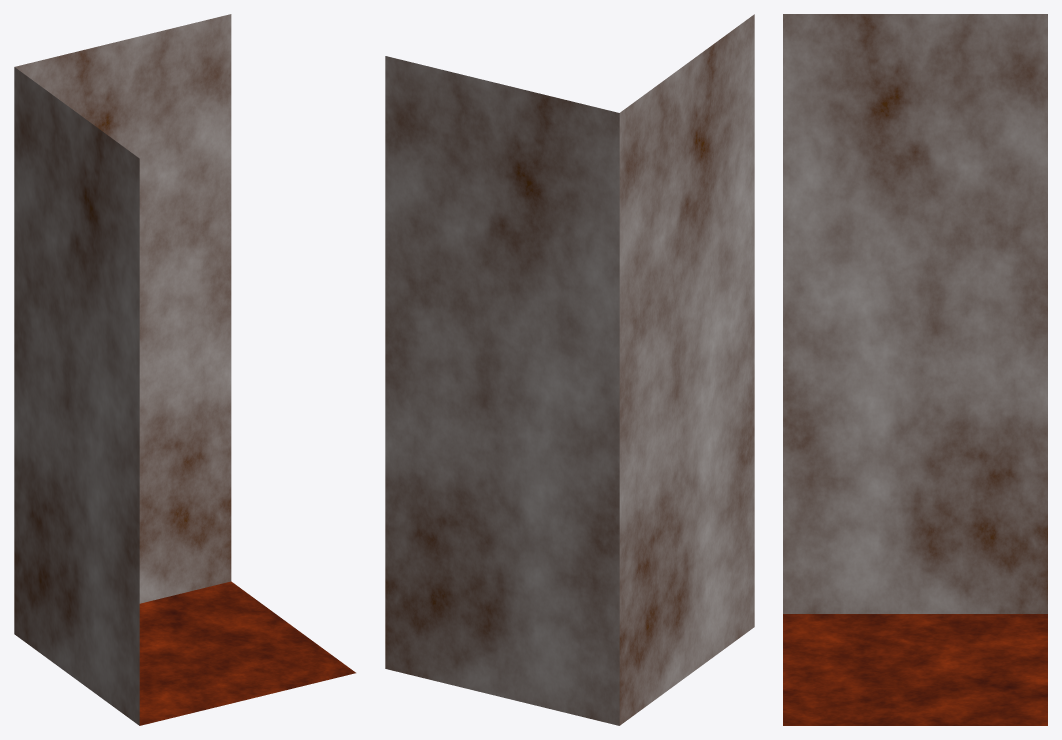
Rendered from MountainCorner1.glb.
3 renders of one model, left to right at view 1: azimuth 30°, elevation 25°; view 2: azimuth 150°, elevation 25°; view 3: azimuth 270°, elevation 25°, orthographic. The views are drawn at different scales.
Visible parts, largest first — view 1: ground; view 2: ground; view 3: ground.
Boxes of the visible parts, x1,y1,x2,y2 form: ground: [14, 14, 355, 725]; ground: [385, 14, 754, 725]; ground: [783, 14, 1047, 725].
Bounding box in the file's own units: 2 × 5 × 2.
2 materials, 2 textured.
